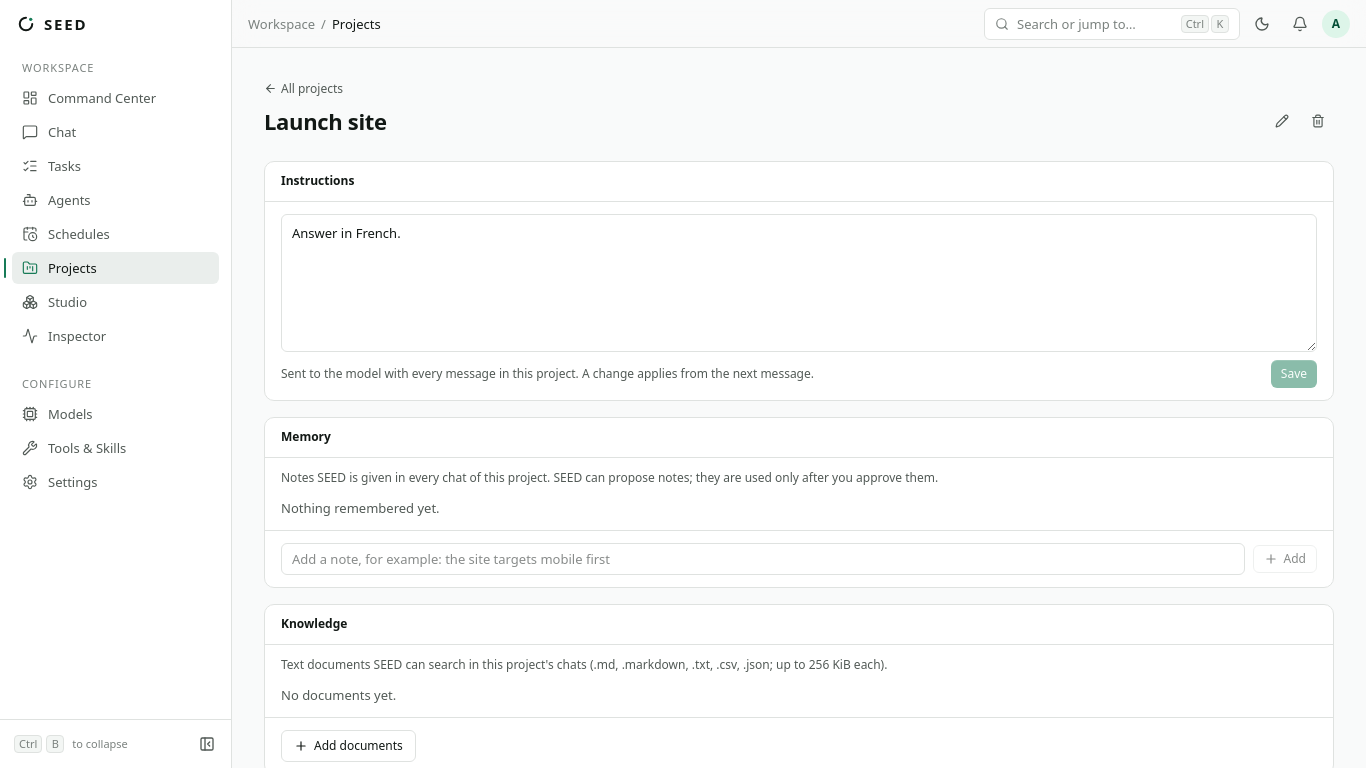
Scenario: Projects › deletes a project only after a confirm that says its chats are kept
The image size is (1366, 768).
Click the button named "Delete project" at (1318, 120), box [1302, 104, 1334, 136]
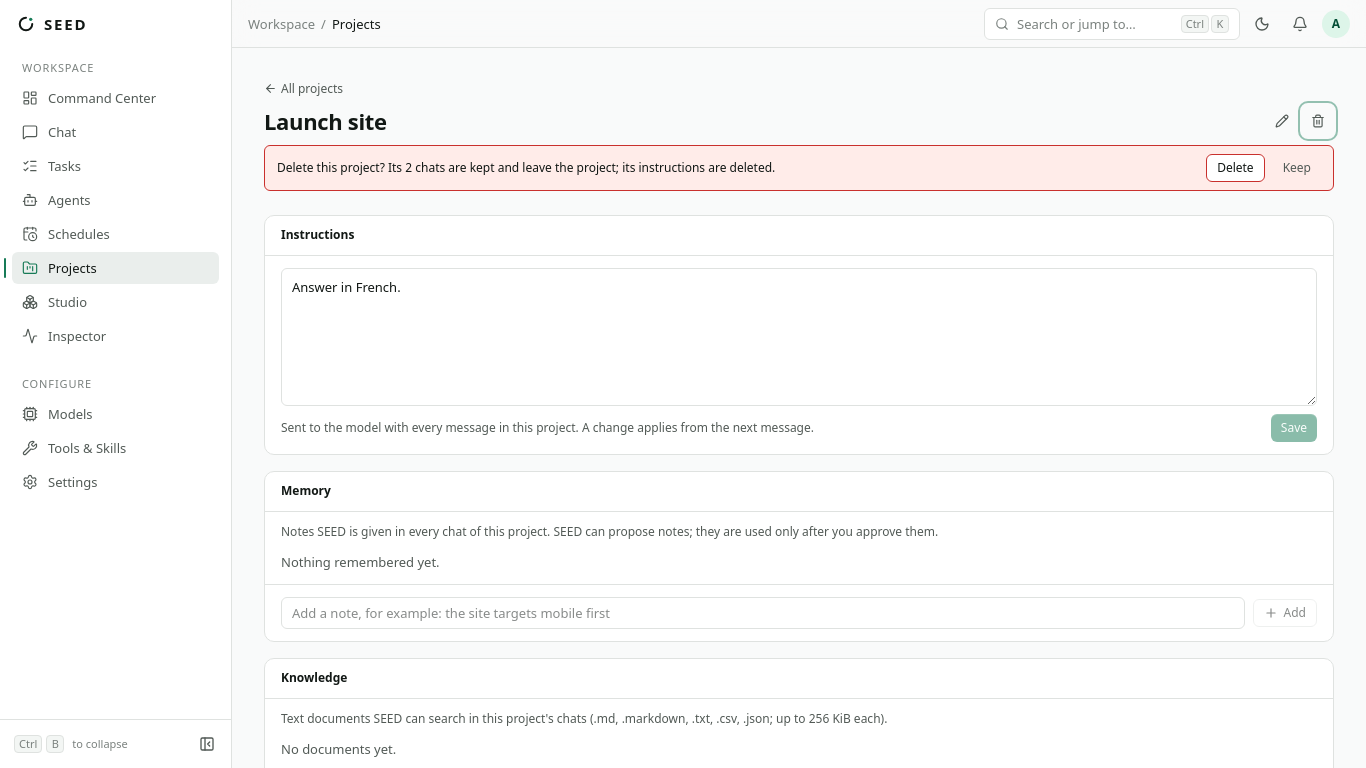
Expected: the dialog named "Delete project" shows "Its 2 chats are kept and leave the project", [264, 144, 1334, 190]
Click the button "Delete" at (1235, 168), box [1206, 154, 1265, 182]
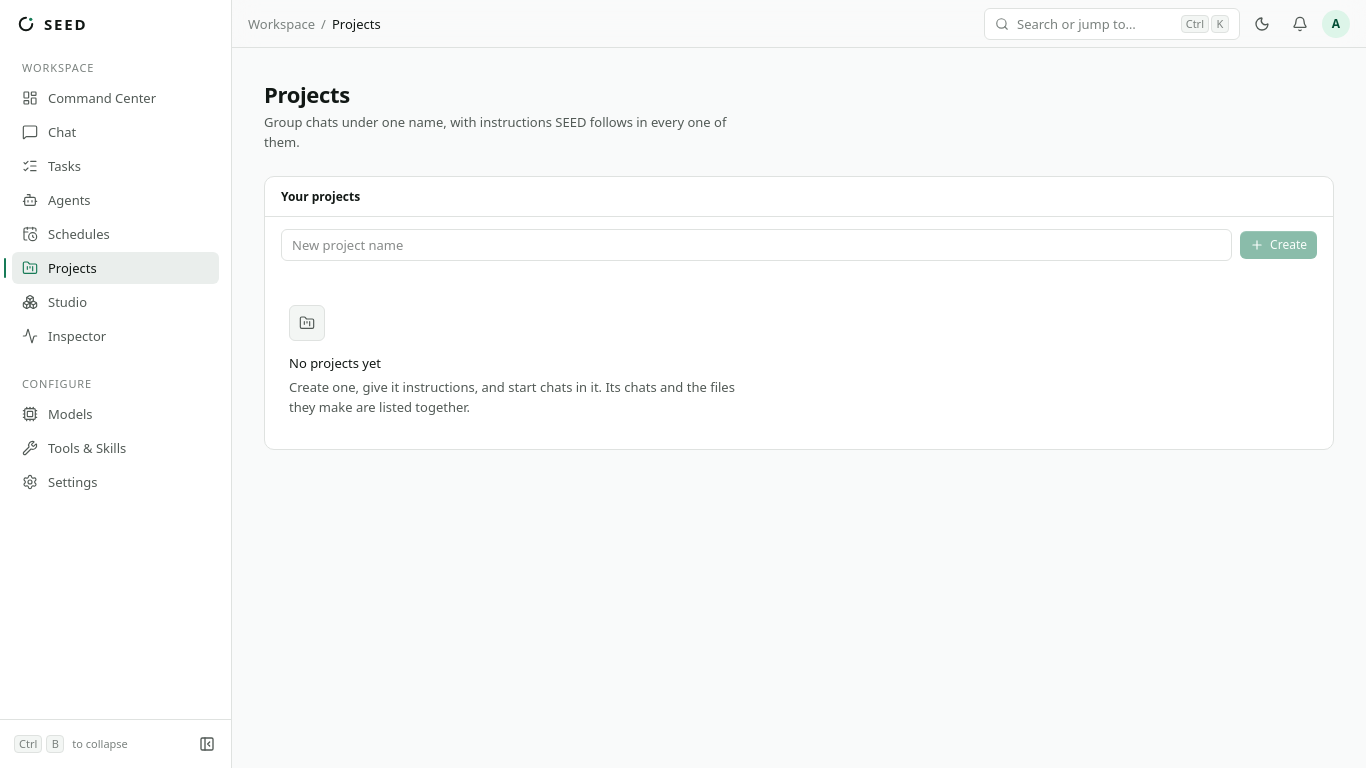
Expected: the text "No projects yet" is shown, [289, 354, 381, 372]
